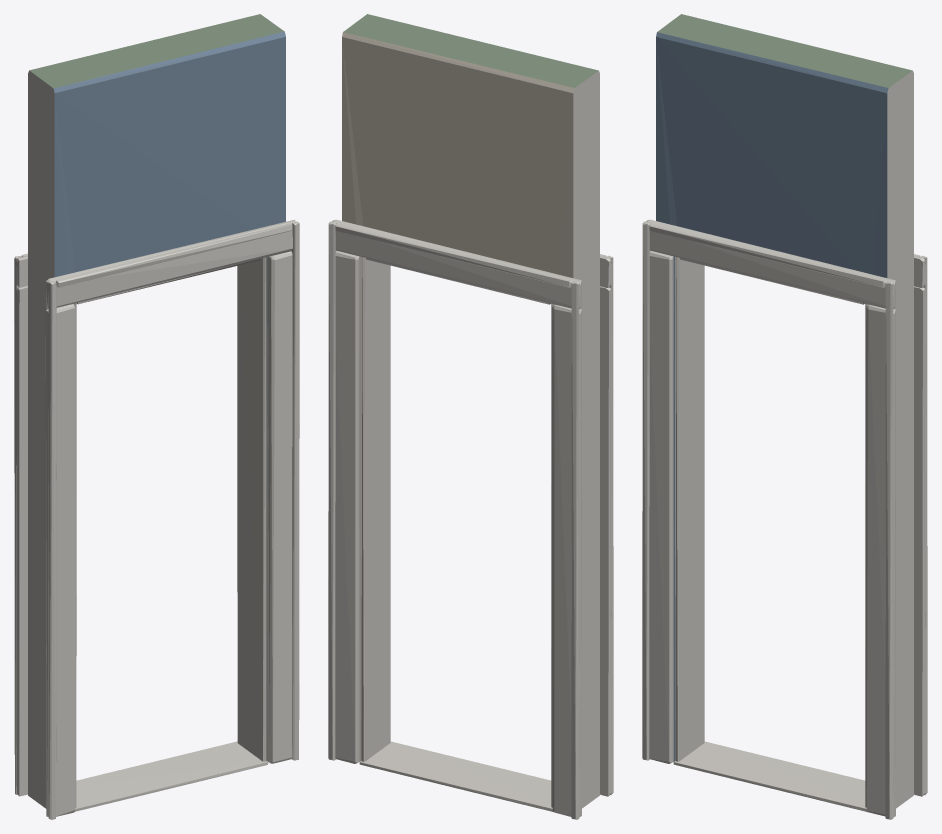
File: SM_Kit_Wall_Door_LOD1.glb
3 renders of one model, left to right at view 1: azimuth 30°, elevation 25°; view 2: azimuth 150°, elevation 25°; view 3: azimuth 330°, elevation 25°, orthographic.
Parts seen in each view (by area): view 1: SM_Kit_Wall_Door_LOD1; view 2: SM_Kit_Wall_Door_LOD1; view 3: SM_Kit_Wall_Door_LOD1.
Boxes of the visible parts, left/top/right/bottom form: SM_Kit_Wall_Door_LOD1: left=14, top=14, right=299, bottom=819; SM_Kit_Wall_Door_LOD1: left=328, top=14, right=613, bottom=819; SM_Kit_Wall_Door_LOD1: left=642, top=14, right=927, bottom=819.
Bounding box in the file's own units: 1.08 × 3 × 0.28.
